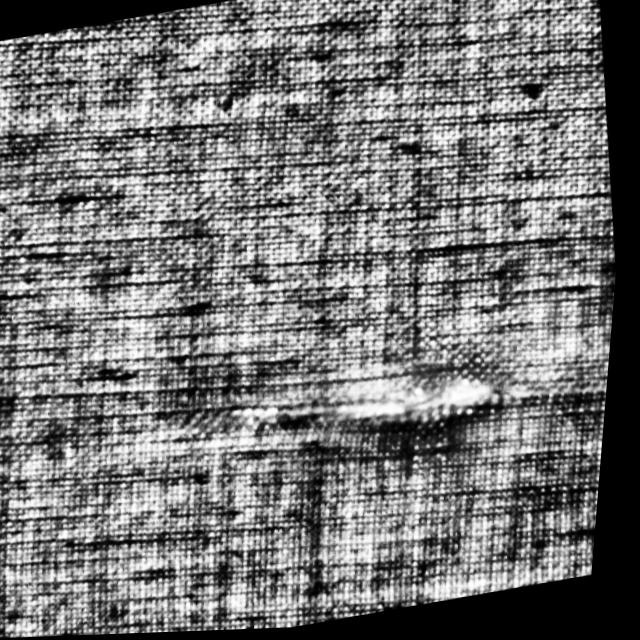Stitch: (251, 357, 523, 479)
